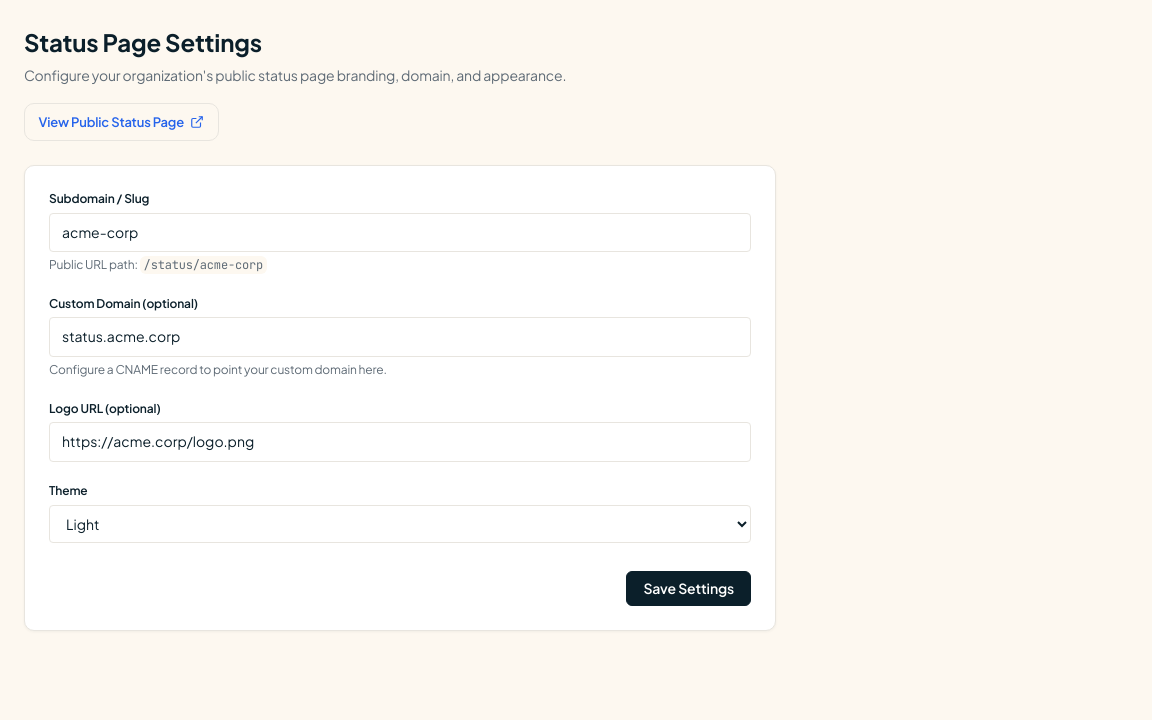
Test: Notifications & Status Page Settings — Phase 1 › StatusPageSettingsPage › allows admin/owner to update settings and shows success toast
expect the field labelled "Subdomain / Slug" holds "acme-corp": met, box x1=49 y1=213 x2=751 y2=252
Select "Dark" in the dropdown labelled "Theme" at (400,524), box x1=49 y1=505 x2=751 y2=543
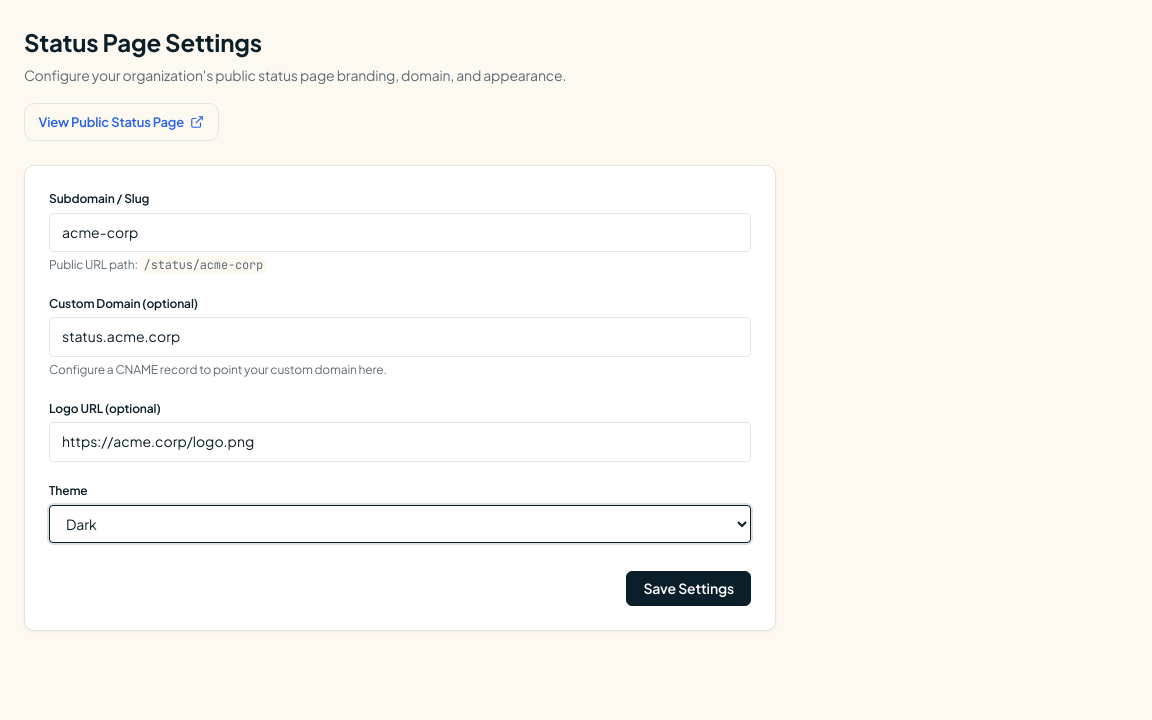
Click the button "Save Settings" at (689,588), box x1=626 y1=571 x2=751 y2=606
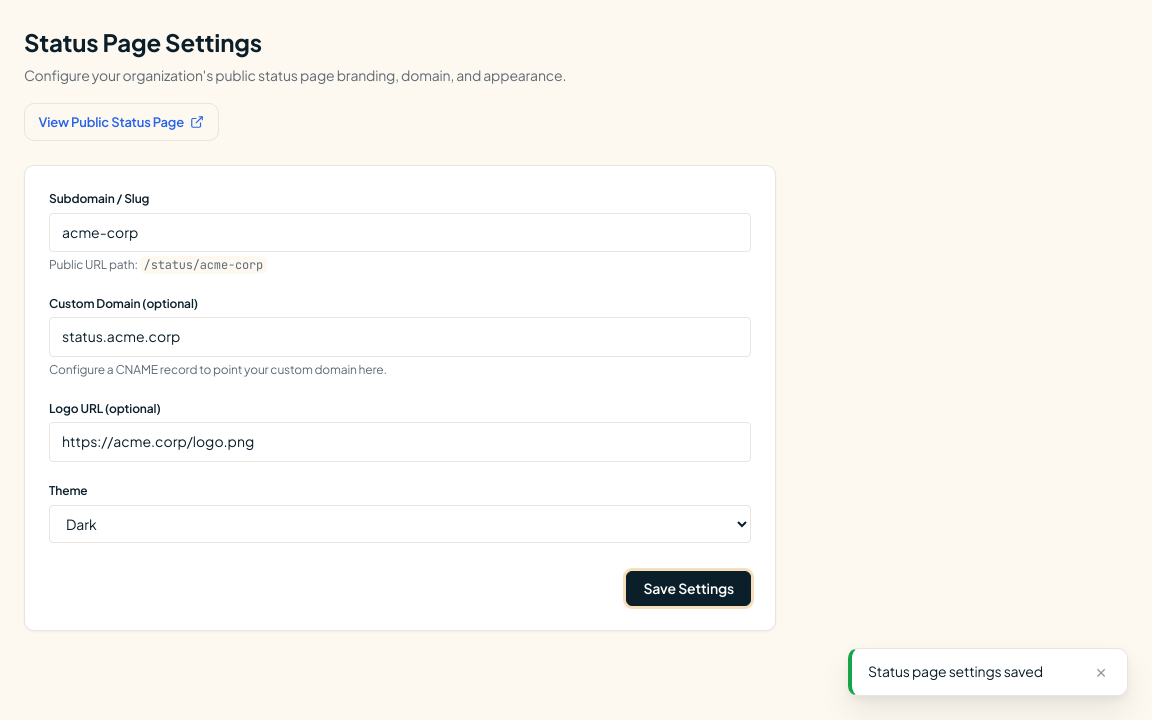
expect the text "Status page settings saved" is shown: met, box x1=868 y1=661 x2=1043 y2=683
